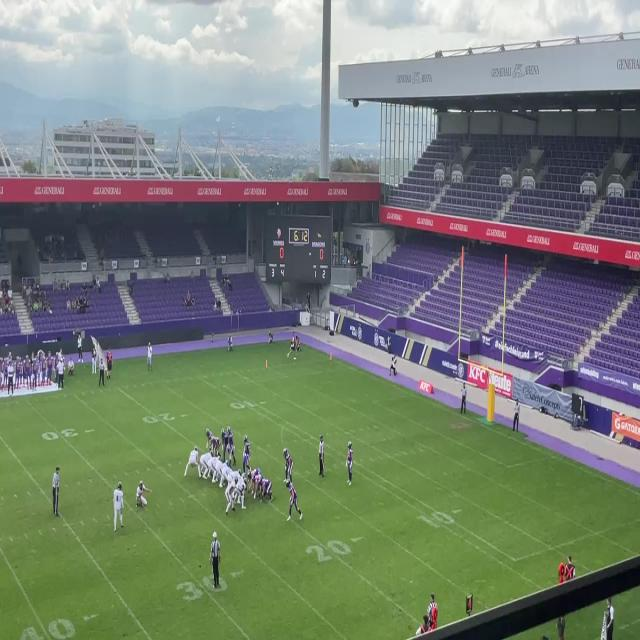1: (412, 512, 446, 534)
2: (304, 541, 334, 569)
3: (176, 577, 203, 607)
4: (18, 619, 49, 639)
american-football-players: (285, 479, 303, 522), (112, 480, 124, 532), (135, 478, 153, 512), (225, 479, 238, 520), (232, 477, 248, 510), (184, 445, 199, 479), (225, 428, 238, 465), (196, 448, 212, 478), (345, 442, 354, 489), (251, 472, 267, 497), (210, 457, 227, 480), (258, 478, 273, 504), (206, 454, 220, 480), (215, 465, 234, 484), (223, 470, 241, 490), (281, 450, 293, 479), (220, 426, 230, 460), (246, 465, 259, 489), (242, 435, 250, 473), (210, 436, 222, 456), (205, 428, 214, 447)
